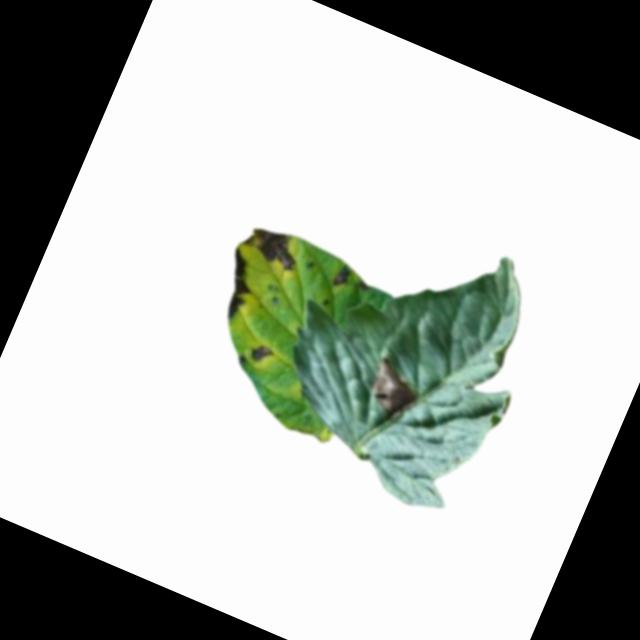Early_blight: (208, 244, 266, 321), (361, 355, 426, 422), (239, 219, 309, 276), (326, 260, 355, 292), (245, 339, 274, 365)
